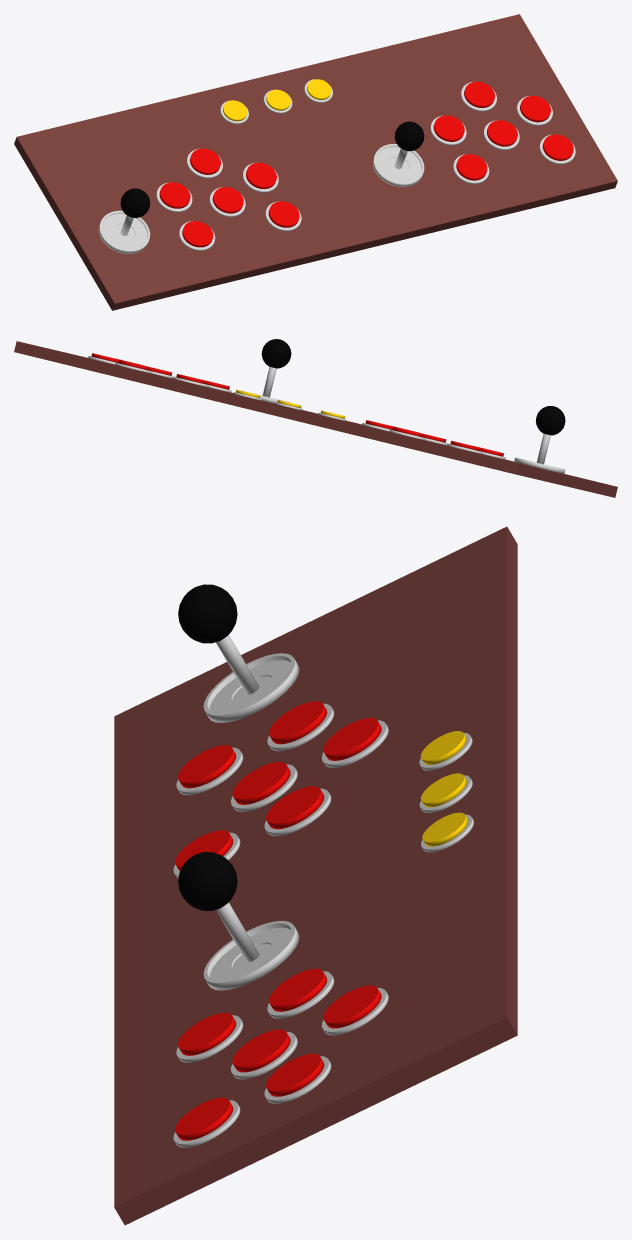
File: tableau_commande.fbx
3 renders of one model, top to bottom at view 1: azimuth 30°, elevation 25°; view 2: azimuth 150°, elevation 25°; view 3: azimuth 270°, elevation 25°, orthographic. The views are drawn at different scales.
Parts seen in each view (by area): view 1: Cube.003, Cylinder.032, Cylinder.018, Icosphere, Icosphere.001, Cylinder.025, Cylinder.001, Cylinder.021, Cylinder.005, Cylinder.009, Cylinder.011, Cylinder.029 (+8 smaller); view 2: Cube.003, Icosphere, Icosphere.001, Cylinder.032, Cylinder.033, Cylinder.019; view 3: Cube.003, Cylinder.018, Cylinder.032, Icosphere.001, Icosphere, Cylinder.007, Cylinder.005, Cylinder.025, Cylinder.027, Cylinder.001, Cylinder.003, Cylinder.023 (+10 smaller).
Part boxes in pixels (bbox=[...]): Cube.003: bbox=[14, 14, 617, 310]; Cylinder.032: bbox=[98, 210, 150, 253]; Cylinder.018: bbox=[373, 144, 424, 186]; Icosphere: bbox=[394, 121, 424, 151]; Icosphere.001: bbox=[120, 188, 150, 217]; Cylinder.025: bbox=[212, 187, 243, 213]; Cylinder.001: bbox=[542, 134, 573, 160]; Cylinder.021: bbox=[268, 201, 299, 227]; Cylinder.005: bbox=[487, 120, 517, 146]; Cylinder.009: bbox=[456, 154, 487, 180]; Cylinder.011: bbox=[433, 115, 464, 141]; Cylinder.029: bbox=[182, 221, 213, 247]; Cube.003: bbox=[14, 341, 617, 497]; Icosphere: bbox=[261, 339, 291, 368]; Icosphere.001: bbox=[536, 406, 565, 435]; Cylinder.032: bbox=[514, 457, 565, 473]; Cylinder.033: bbox=[536, 433, 550, 464]; Cylinder.019: bbox=[262, 367, 276, 397]; Cube.003: bbox=[114, 526, 517, 1225]; Cylinder.018: bbox=[203, 920, 299, 990]; Cylinder.032: bbox=[203, 653, 299, 722]; Icosphere.001: bbox=[178, 584, 237, 643]; Icosphere: bbox=[178, 852, 237, 910]; Cylinder.007: bbox=[323, 985, 381, 1028]; Cylinder.005: bbox=[232, 1029, 290, 1072]; Cylinder.025: bbox=[232, 762, 290, 804]; Cylinder.027: bbox=[323, 718, 381, 760]; Cylinder.001: bbox=[175, 1097, 233, 1140]; Cylinder.003: bbox=[266, 1053, 324, 1096]; Cylinder.023: bbox=[266, 786, 324, 829].
Size of the model in its own units: 67.3 by 13.31 by 23.38.
